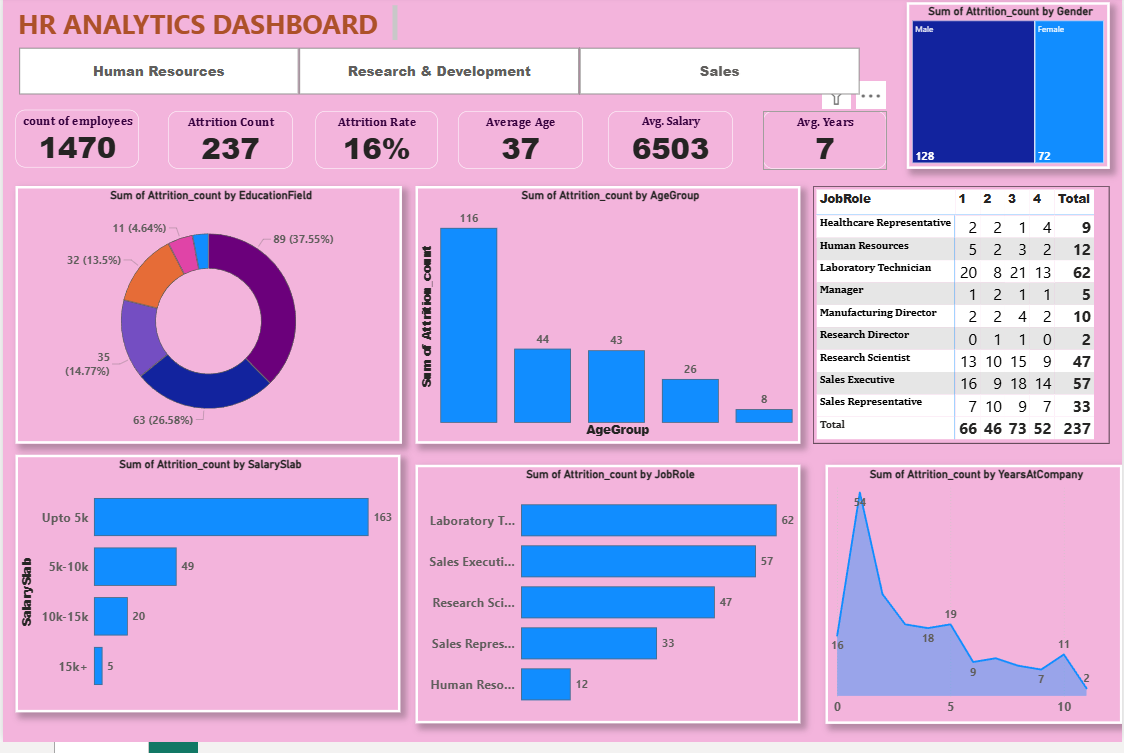

The page's visual inventory and layout, read from the dashboard file:
{"tool":"powerbi","page":{"name":"Page 1","canvas":[1800,1200],"ordinal":0},"visuals":[{"type":"card","title":"count of employees","fields":{"Values":["CountNonNull(HR_Analytics.EmpID)"]},"box":[19.4,183.7,198.8,92.9],"z":0},{"type":"card","title":"Attrition Count","fields":{"Values":["Sum(HR_Analytics.Attrition_count)"]},"box":[265.8,185.8,201,92.9],"z":1000},{"type":"card","title":"Attrition Rate","fields":{"Values":["Avg(HR_Analytics.Attrition_Rate)"]},"box":[503.5,185.8,196.6,92.9],"z":2000},{"type":"card","title":"Average Age","fields":{"Values":["Avg(HR_Analytics.Age)"]},"box":[732.5,185.8,201,92.9],"z":3000},{"type":"card","title":"Avg. Salary","fields":{"Values":["Avg(HR_Analytics.MonthlyIncome)"]},"box":[972.4,185.8,201,92.9],"z":4000},{"type":"card","title":"Avg. Years","fields":{"Values":["Avg(HR_Analytics.YearsAtCompany)"]},"box":[1223,185.8,198.8,92.9],"z":5000},{"type":"donutChart","fields":{"Category":["HR_Analytics.EducationField"],"Y":["Sum(HR_Analytics.Attrition_count)"]},"box":[20.1,305.6,621.3,414.2],"z":6000},{"type":"columnChart","fields":{"Y":["Sum(HR_Analytics.Attrition_count)"],"Category":["HR_Analytics.AgeGroup"]},"box":[663.5,305.6,619.3,414.2],"z":7000},{"type":"pivotTable","fields":{"Rows":["HR_Analytics.JobRole"],"Columns":["HR_Analytics.JobSatisfaction"],"Values":["Sum(HR_Analytics.Attrition_count)"]},"box":[1303,305.6,476.5,414.2],"z":8000},{"type":"barChart","fields":{"Category":["HR_Analytics.SalarySlab"],"Y":["Sum(HR_Analytics.Attrition_count)"]},"box":[20.1,737.9,619.3,414.2],"z":9000},{"type":"barChart","fields":{"Category":["HR_Analytics.JobRole"],"Y":["Sum(HR_Analytics.Attrition_count)"]},"box":[663.5,754,619.3,416.2],"z":10000},{"type":"areaChart","fields":{"Y":["Sum(HR_Analytics.Attrition_count)"],"Category":["HR_Analytics.YearsAtCompany"]},"box":[1322.4,754.1,477.6,417],"z":11000},{"type":"treemap","fields":{"Group":["HR_Analytics.Gender"],"Values":["Sum(HR_Analytics.Attrition_count)"]},"box":[1454.3,10.8,326.3,267.9],"z":12000},{"type":"slicer","fields":{"Values":["HR_Analytics.Department"]},"box":[0,76.4,1401.5,88.5],"z":13000},{"type":"textbox","box":[20.1,10.1,619.3,66.4],"z":14000}]}

Visuals, with their boxes in screenshot pixels (x1, y1, x2, y2), scaled from the page's 1800x1200 canvas onto the 1124x753 screenshot:
"count of employees" card: select_region(12, 115, 136, 174)
"Attrition Count" card: select_region(166, 117, 291, 175)
"Attrition Rate" card: select_region(314, 117, 437, 175)
"Average Age" card: select_region(457, 117, 583, 175)
"Avg. Salary" card: select_region(607, 117, 733, 175)
"Avg. Years" card: select_region(764, 117, 888, 175)
donutChart - HR_Analytics.EducationField x Sum(HR_Analytics.Attrition_count): select_region(13, 192, 401, 452)
columnChart - Sum(HR_Analytics.Attrition_count) x HR_Analytics.AgeGroup: select_region(414, 192, 801, 452)
pivotTable - HR_Analytics.JobRole x HR_Analytics.JobSatisfaction: select_region(814, 192, 1111, 452)
barChart - HR_Analytics.SalarySlab x Sum(HR_Analytics.Attrition_count): select_region(13, 463, 399, 723)
barChart - HR_Analytics.JobRole x Sum(HR_Analytics.Attrition_count): select_region(414, 473, 801, 734)
areaChart - Sum(HR_Analytics.Attrition_count) x HR_Analytics.YearsAtCompany: select_region(826, 473, 1123, 735)
treemap - HR_Analytics.Gender x Sum(HR_Analytics.Attrition_count): select_region(908, 7, 1112, 175)
slicer - HR_Analytics.Department: select_region(0, 48, 875, 103)
textbox: select_region(13, 6, 399, 48)
